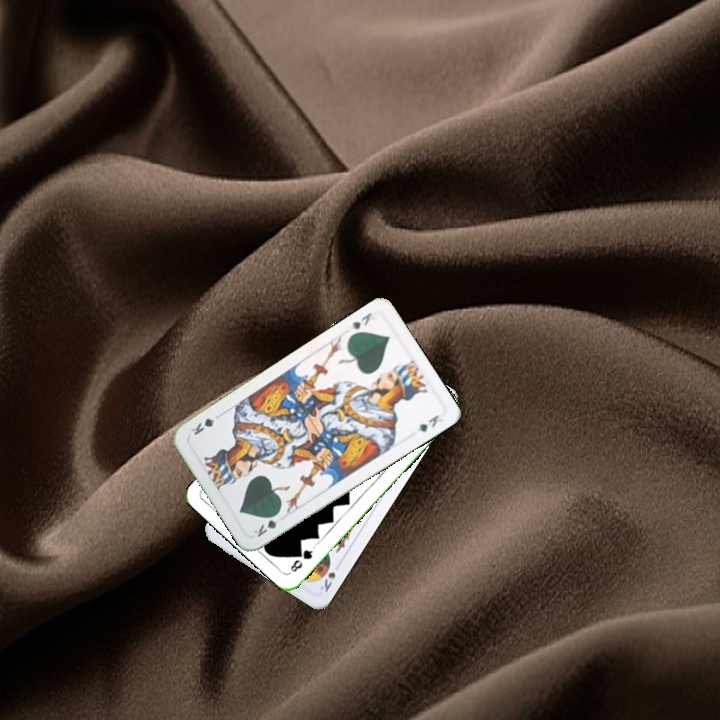G8: (286, 543, 317, 575)
GK: (249, 508, 283, 540), (346, 309, 374, 333)
SK: (316, 558, 338, 595)
